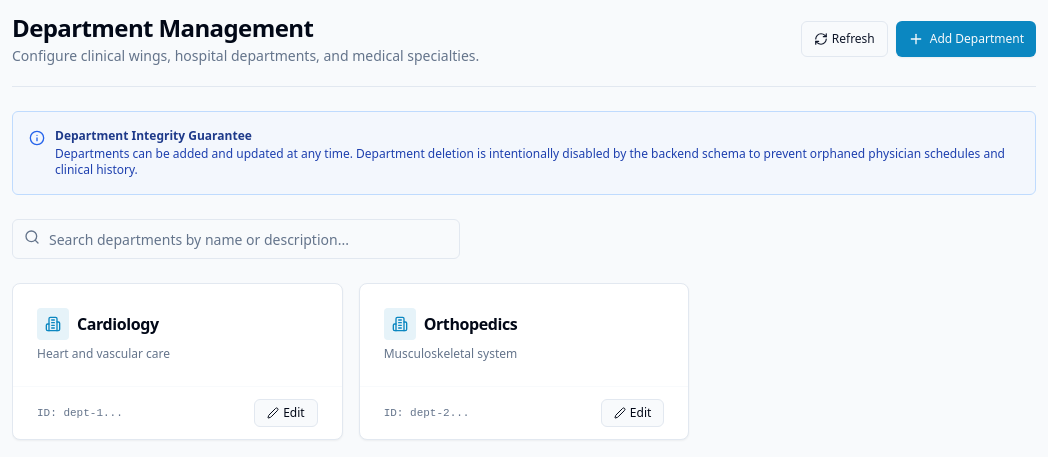
Test case: DepartmentsPage Management › filters departments dynamically via search input
Type "Cardio" into the field labelled "Search departments by name or description..." at (236, 239), box [12,219,460,259]
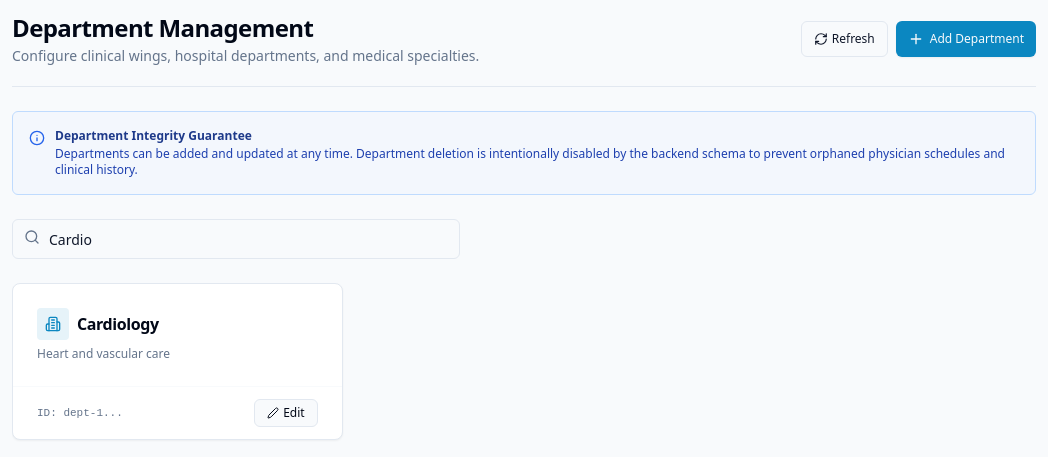
Check: the heading "Cardiology" is shown, box [77,314,159,334]
Check: the heading "Orthopedics" is gone
